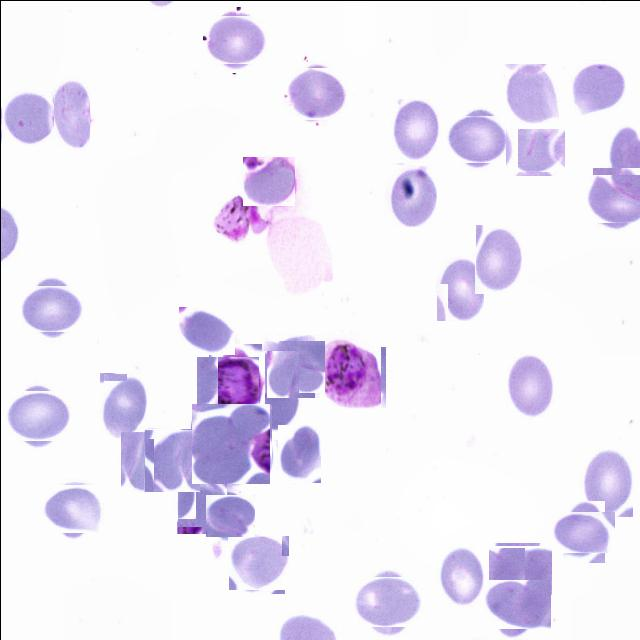red blood cell: (190, 403, 270, 483), (488, 544, 550, 606), (581, 445, 632, 516), (357, 572, 417, 632), (143, 428, 199, 491), (504, 63, 558, 128), (488, 574, 546, 634), (8, 386, 66, 444), (285, 64, 343, 122), (228, 534, 286, 592), (264, 336, 322, 394), (474, 223, 522, 293), (207, 10, 264, 68), (384, 164, 436, 226), (507, 350, 553, 420), (258, 350, 298, 430), (568, 60, 624, 116), (449, 110, 505, 166), (507, 118, 563, 174), (436, 255, 484, 320), (99, 372, 146, 438), (44, 481, 100, 536), (393, 98, 441, 162), (24, 280, 79, 335), (0, 88, 53, 144), (176, 474, 226, 533), (52, 73, 89, 152), (588, 170, 640, 225), (120, 431, 166, 490), (557, 505, 609, 557), (178, 306, 234, 354), (242, 156, 294, 205), (277, 424, 320, 482), (438, 549, 484, 602), (206, 492, 252, 538)
schizont: (313, 334, 385, 408)
trophozoite: (202, 349, 270, 418)
